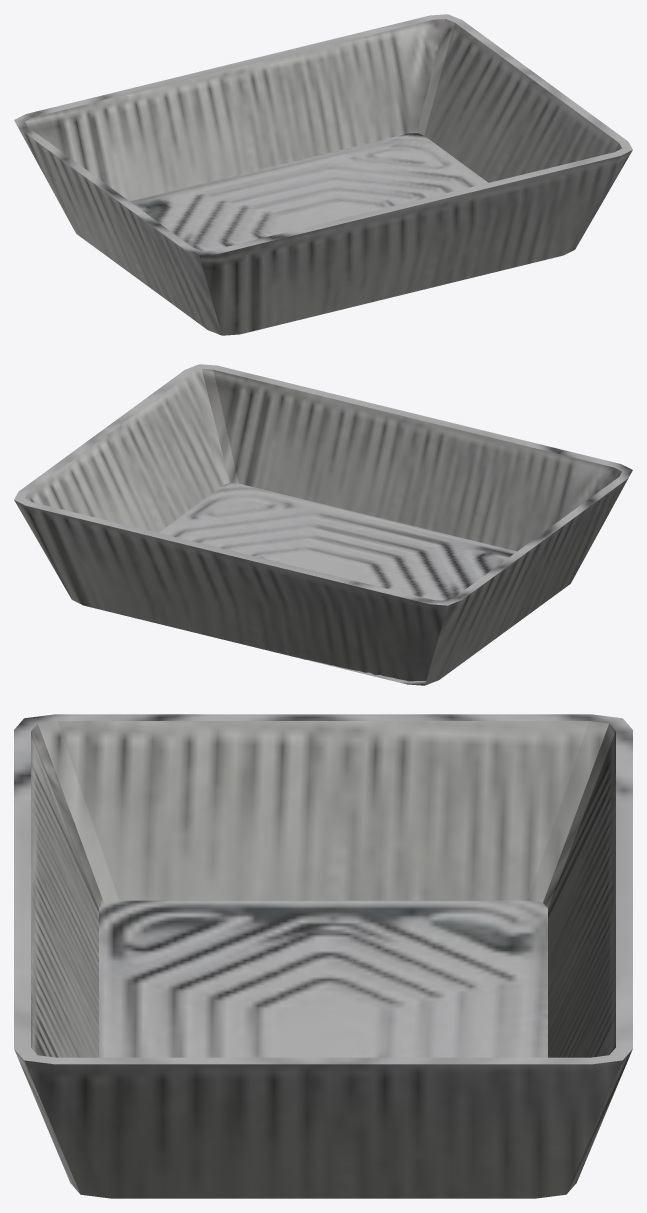
Rendered from meth_cooking_foil.FBX.
3 views of the same model, one above another, from view 1: azimuth 30°, elevation 25°; view 2: azimuth 150°, elevation 25°; view 3: azimuth 270°, elevation 25° (orthographic). The views are drawn at different scales.
Visible parts, largest first — view 1: meth_cooking_foil; view 2: meth_cooking_foil; view 3: meth_cooking_foil.
Boxes of the visible parts, x1=… form: meth_cooking_foil: x1=14, y1=14, x2=632, y2=335; meth_cooking_foil: x1=14, y1=364, x2=632, y2=685; meth_cooking_foil: x1=14, y1=714, x2=632, y2=1198.
Bounding box in the file's own units: 41.75 × 9.24 × 31.21.
